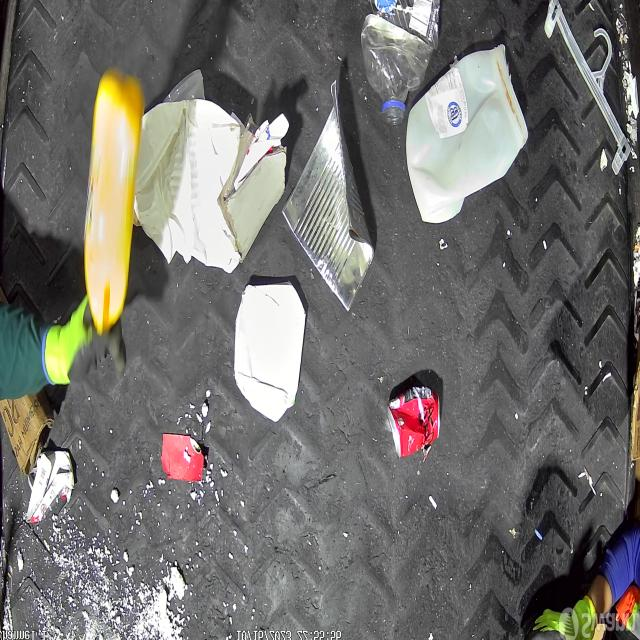can: (386, 386, 441, 460)
milk_jug: (406, 42, 528, 222)
non_white_jug: (83, 71, 145, 332)
plastic_bottle: (361, 0, 441, 124)
